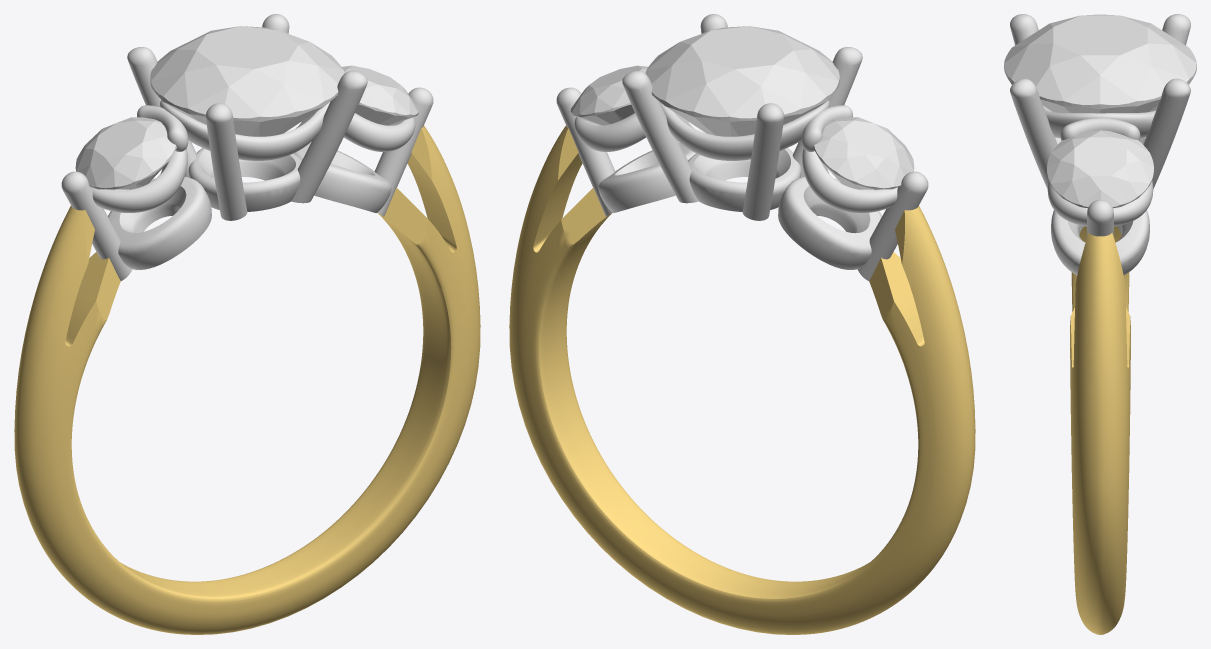
The model's file is Sam_Freedman_1_blender.glb.
3 renders of one model, left to right at view 1: azimuth 30°, elevation 25°; view 2: azimuth 150°, elevation 25°; view 3: azimuth 270°, elevation 25°, orthographic.
Parts seen in each view (by area): view 1: Sam YG for 3d model, Sam PT for 3d model, Sam dia for 3d model.001, Sam dia for 3d model, Sam dia for 3d model.002; view 2: Sam YG for 3d model, Sam PT for 3d model, Sam dia for 3d model.001, Sam dia for 3d model, Sam dia for 3d model.002; view 3: Sam YG for 3d model, Sam dia for 3d model.001, Sam PT for 3d model, Sam dia for 3d model.002.
Boxes of the visible parts, x1,y1,x2,y2 form: Sam YG for 3d model: [14, 125, 480, 634]; Sam PT for 3d model: [61, 14, 433, 280]; Sam dia for 3d model.001: [150, 26, 344, 136]; Sam dia for 3d model: [75, 117, 176, 189]; Sam dia for 3d model.002: [342, 65, 419, 125]; Sam YG for 3d model: [509, 125, 975, 634]; Sam PT for 3d model: [556, 14, 928, 280]; Sam dia for 3d model.001: [645, 26, 839, 136]; Sam dia for 3d model: [813, 117, 914, 189]; Sam dia for 3d model.002: [570, 65, 647, 125]; Sam YG for 3d model: [1070, 226, 1130, 634]; Sam dia for 3d model.001: [1004, 14, 1196, 113]; Sam PT for 3d model: [1010, 14, 1190, 275]; Sam dia for 3d model.002: [1047, 130, 1153, 208].
Size of the model in its own units: 19.7 by 23.7 by 7.2.
